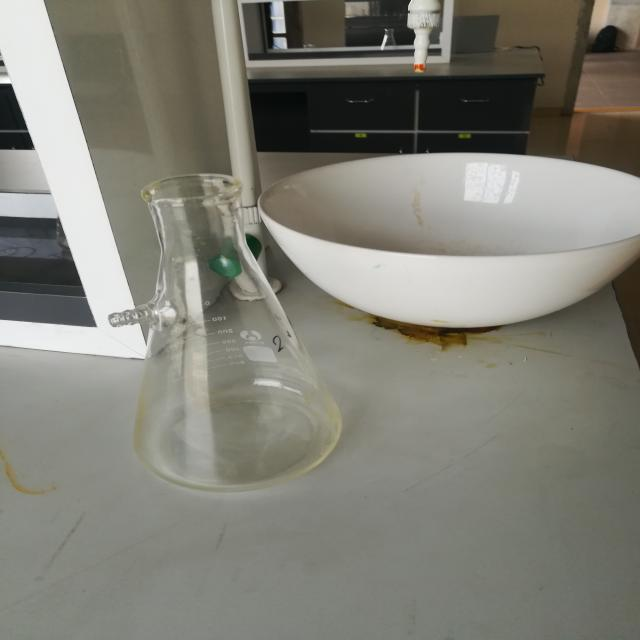Conical_Flask: (71, 160, 404, 521)
